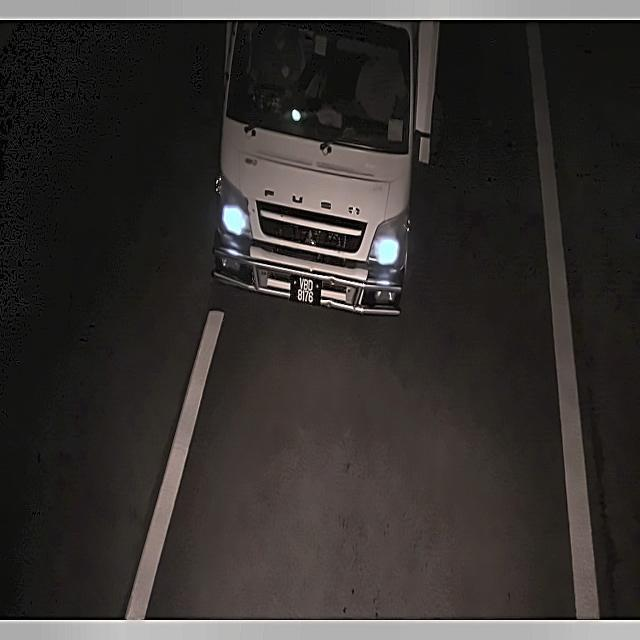car: (286, 268, 326, 314)
